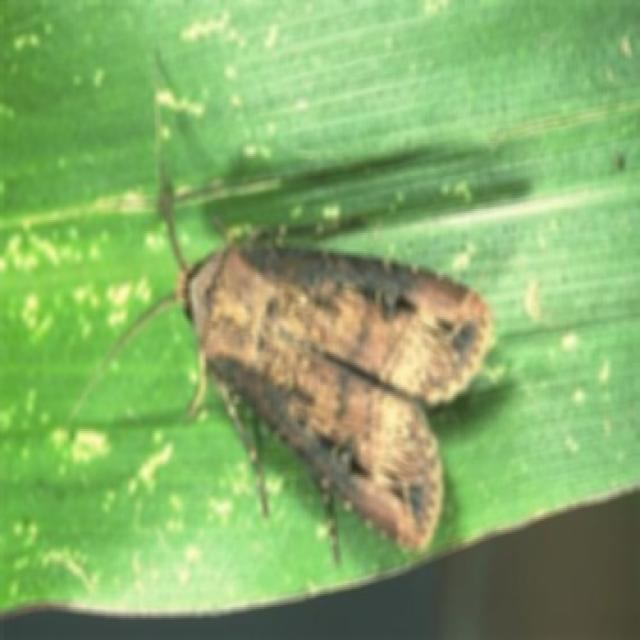black cutworm: (170, 226, 505, 558)
